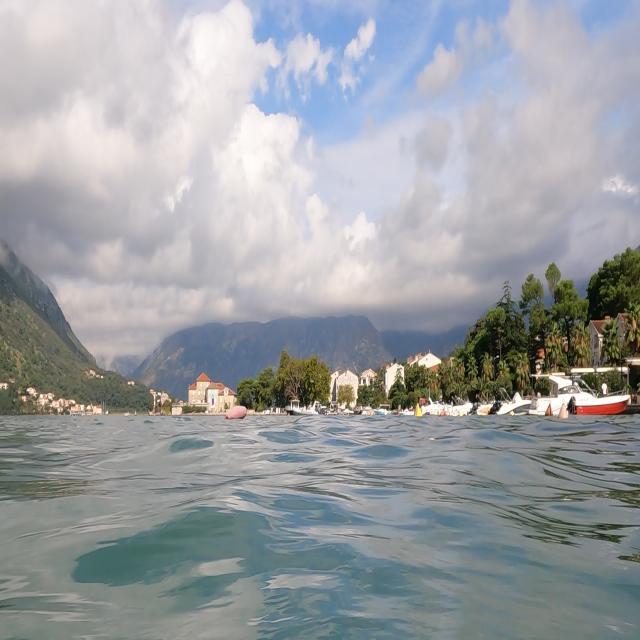boat: (526, 369, 631, 420), (488, 381, 533, 426), (287, 388, 328, 426)
buoy: (221, 397, 251, 429), (413, 401, 427, 422)
